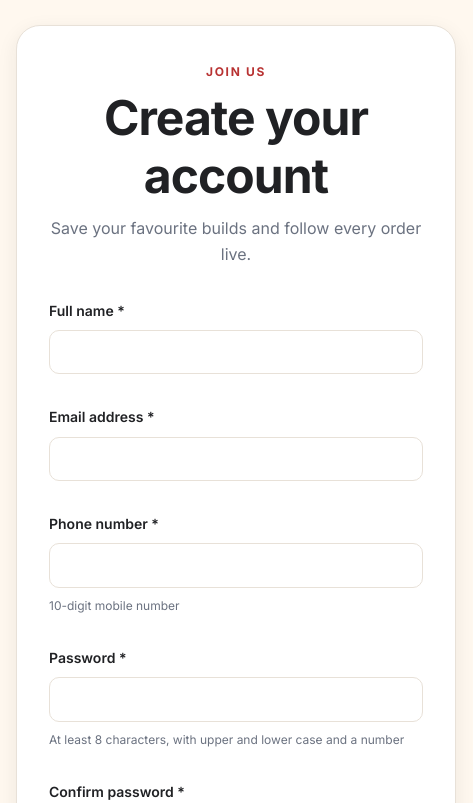
it: Register form › surfaces field-specific server validation errors instead of only "Validation failed"
Type "Asha Rao" into the field labelled "Full name *" at {"x": 236, "y": 352}, box [49, 330, 423, 374]
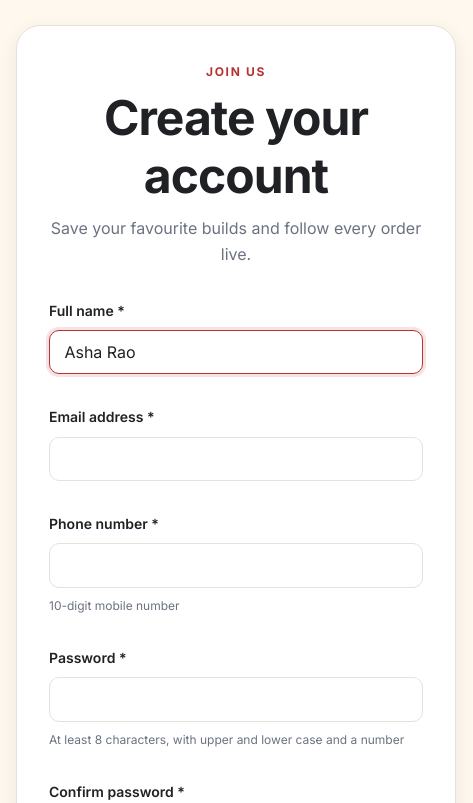
Type "asha@example.com" into the field labelled "Email address *" at {"x": 236, "y": 459}, box [49, 437, 423, 481]
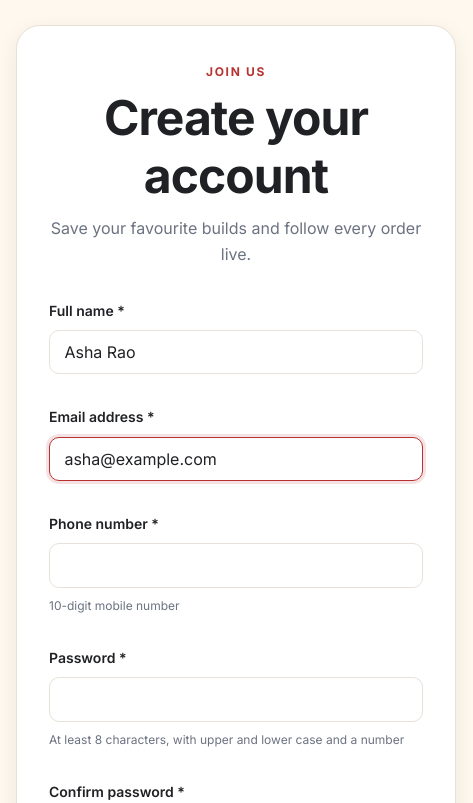
Type "9876543210" into the field labelled "Phone number *" at {"x": 236, "y": 566}, box [49, 544, 423, 588]
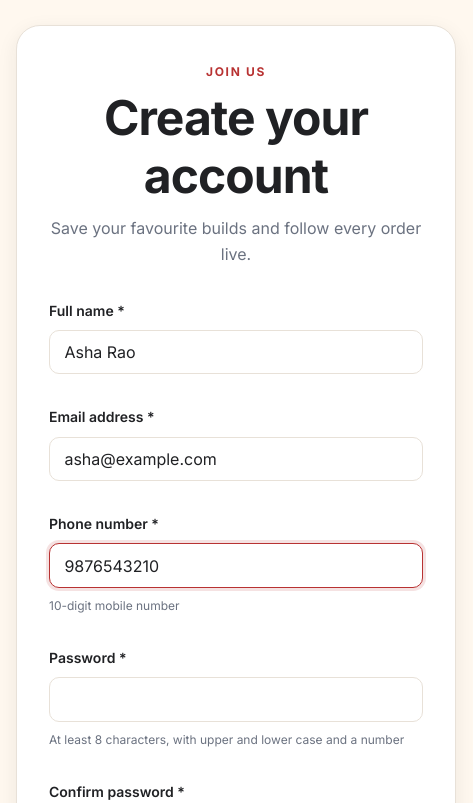
Type "Str0ngPass1" into the password field labelled "Password *" at {"x": 236, "y": 700}, box [49, 677, 423, 722]
(page scrolled)
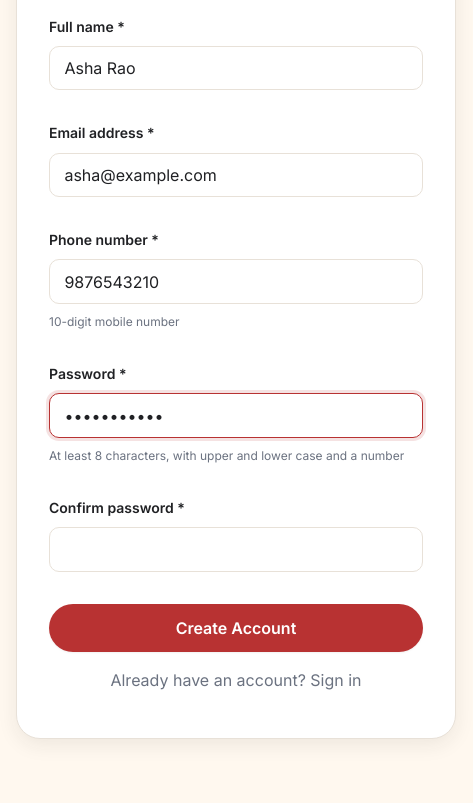
Type "Str0ngPass1" into the password field labelled "Confirm password *" at {"x": 236, "y": 550}, box [49, 527, 423, 572]
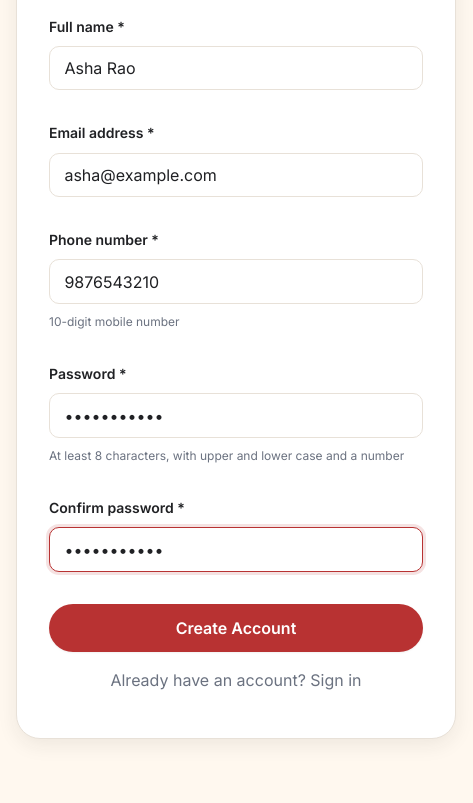
Click the button "Create Account" at {"x": 236, "y": 628}, box [49, 604, 423, 652]
(page scrolled)
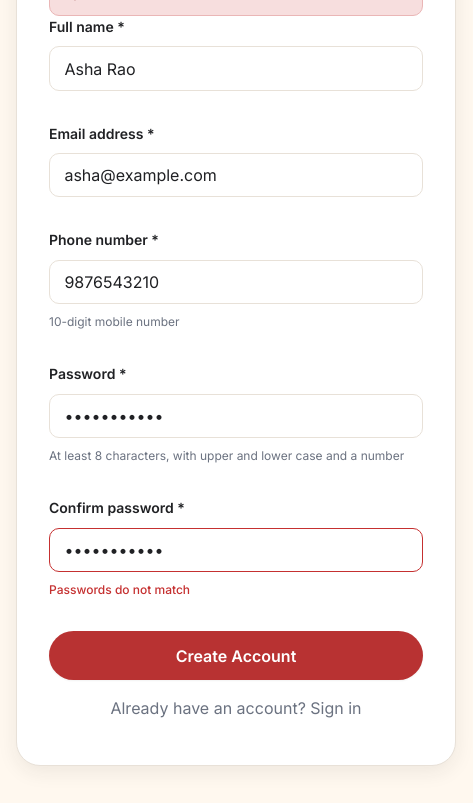
Expected: the text "Passwords do not match" is shown, [49, 582, 190, 597]
